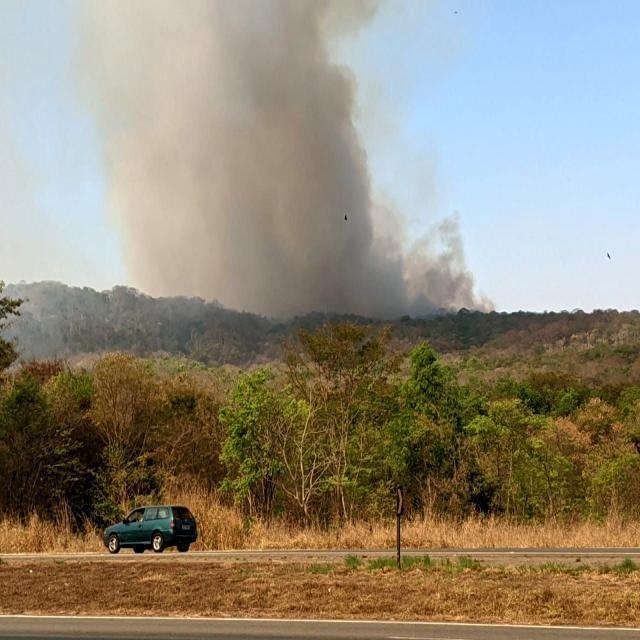Smoke: (90, 0, 424, 319), (386, 206, 494, 320)
